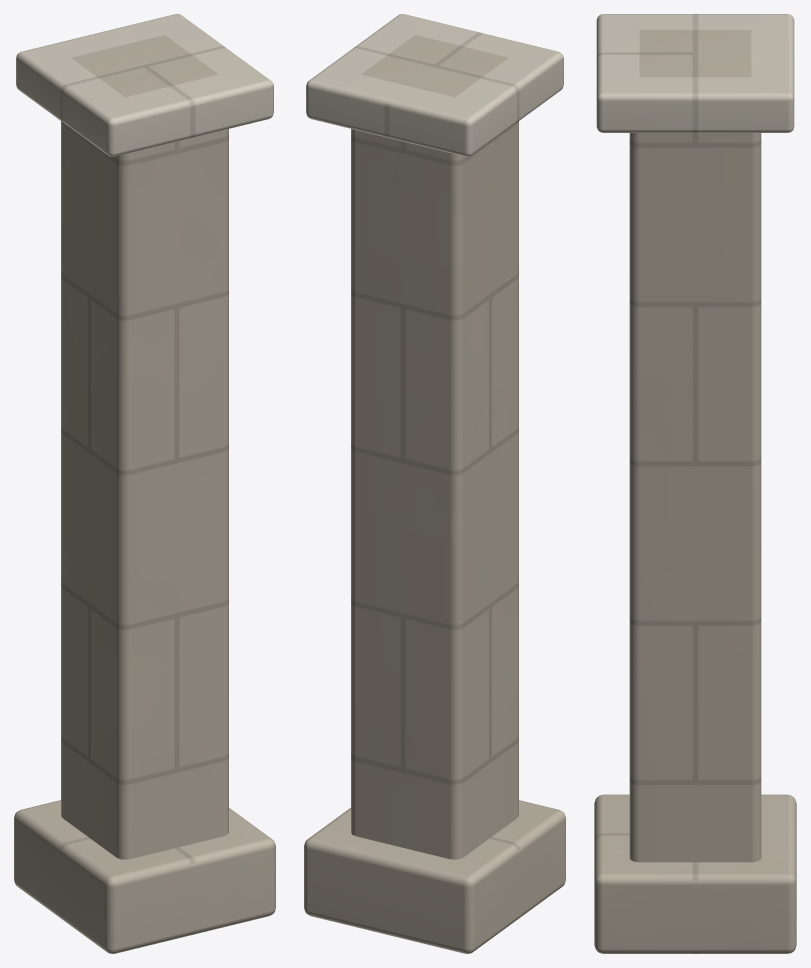
Rendered from BG_ENV_SURFACE_PILLAR_001.glb.
3 renders of one model, left to right at view 1: azimuth 30°, elevation 25°; view 2: azimuth 150°, elevation 25°; view 3: azimuth 270°, elevation 25°, orthographic. The views are drawn at different scales.
Visible parts, largest first — view 1: BG_ENV_SURFACE_PILLAR_001_mesh; view 2: BG_ENV_SURFACE_PILLAR_001_mesh; view 3: BG_ENV_SURFACE_PILLAR_001_mesh.
Boxes of the visible parts, left/top/right/bottom form: BG_ENV_SURFACE_PILLAR_001_mesh: left=14, top=14, right=275, bottom=953; BG_ENV_SURFACE_PILLAR_001_mesh: left=304, top=14, right=565, bottom=953; BG_ENV_SURFACE_PILLAR_001_mesh: left=594, top=14, right=796, bottom=953.
Size of the model in its own units: 0.46 by 2.16 by 0.46.
Materials: 1 (1 with a texture image).
